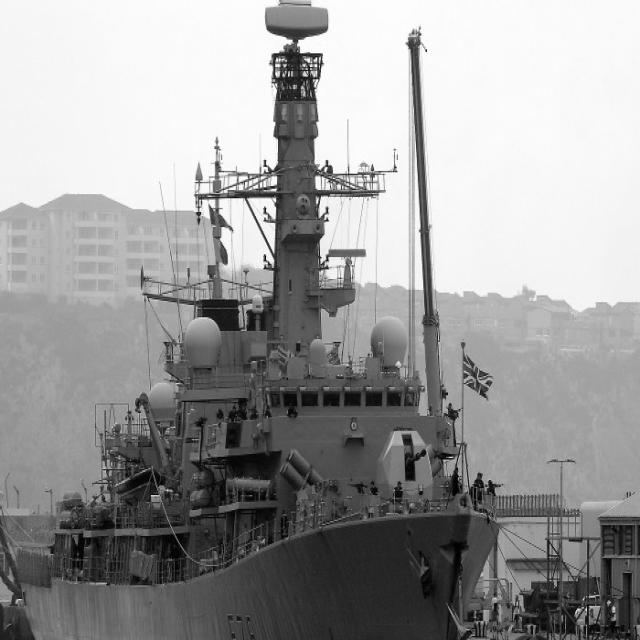Fragata: (12, 1, 508, 640)
